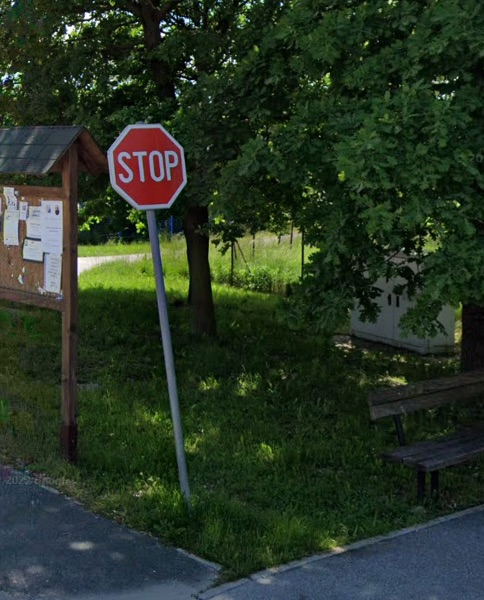Obavezno zaustavljanje: (108, 124, 187, 209)
